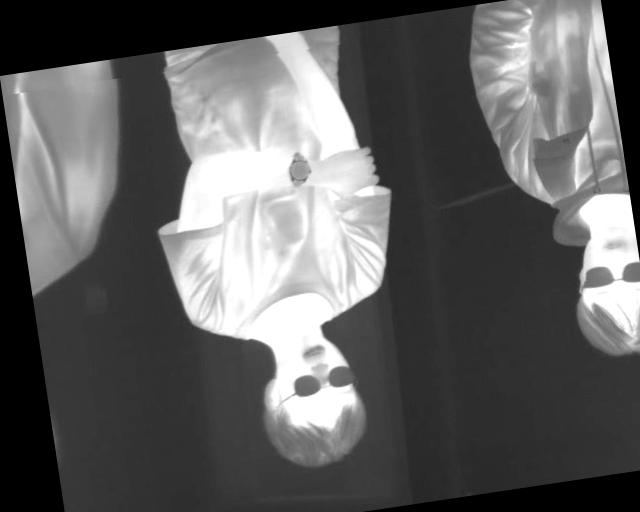face: (254, 325, 373, 474), (563, 223, 640, 367)
